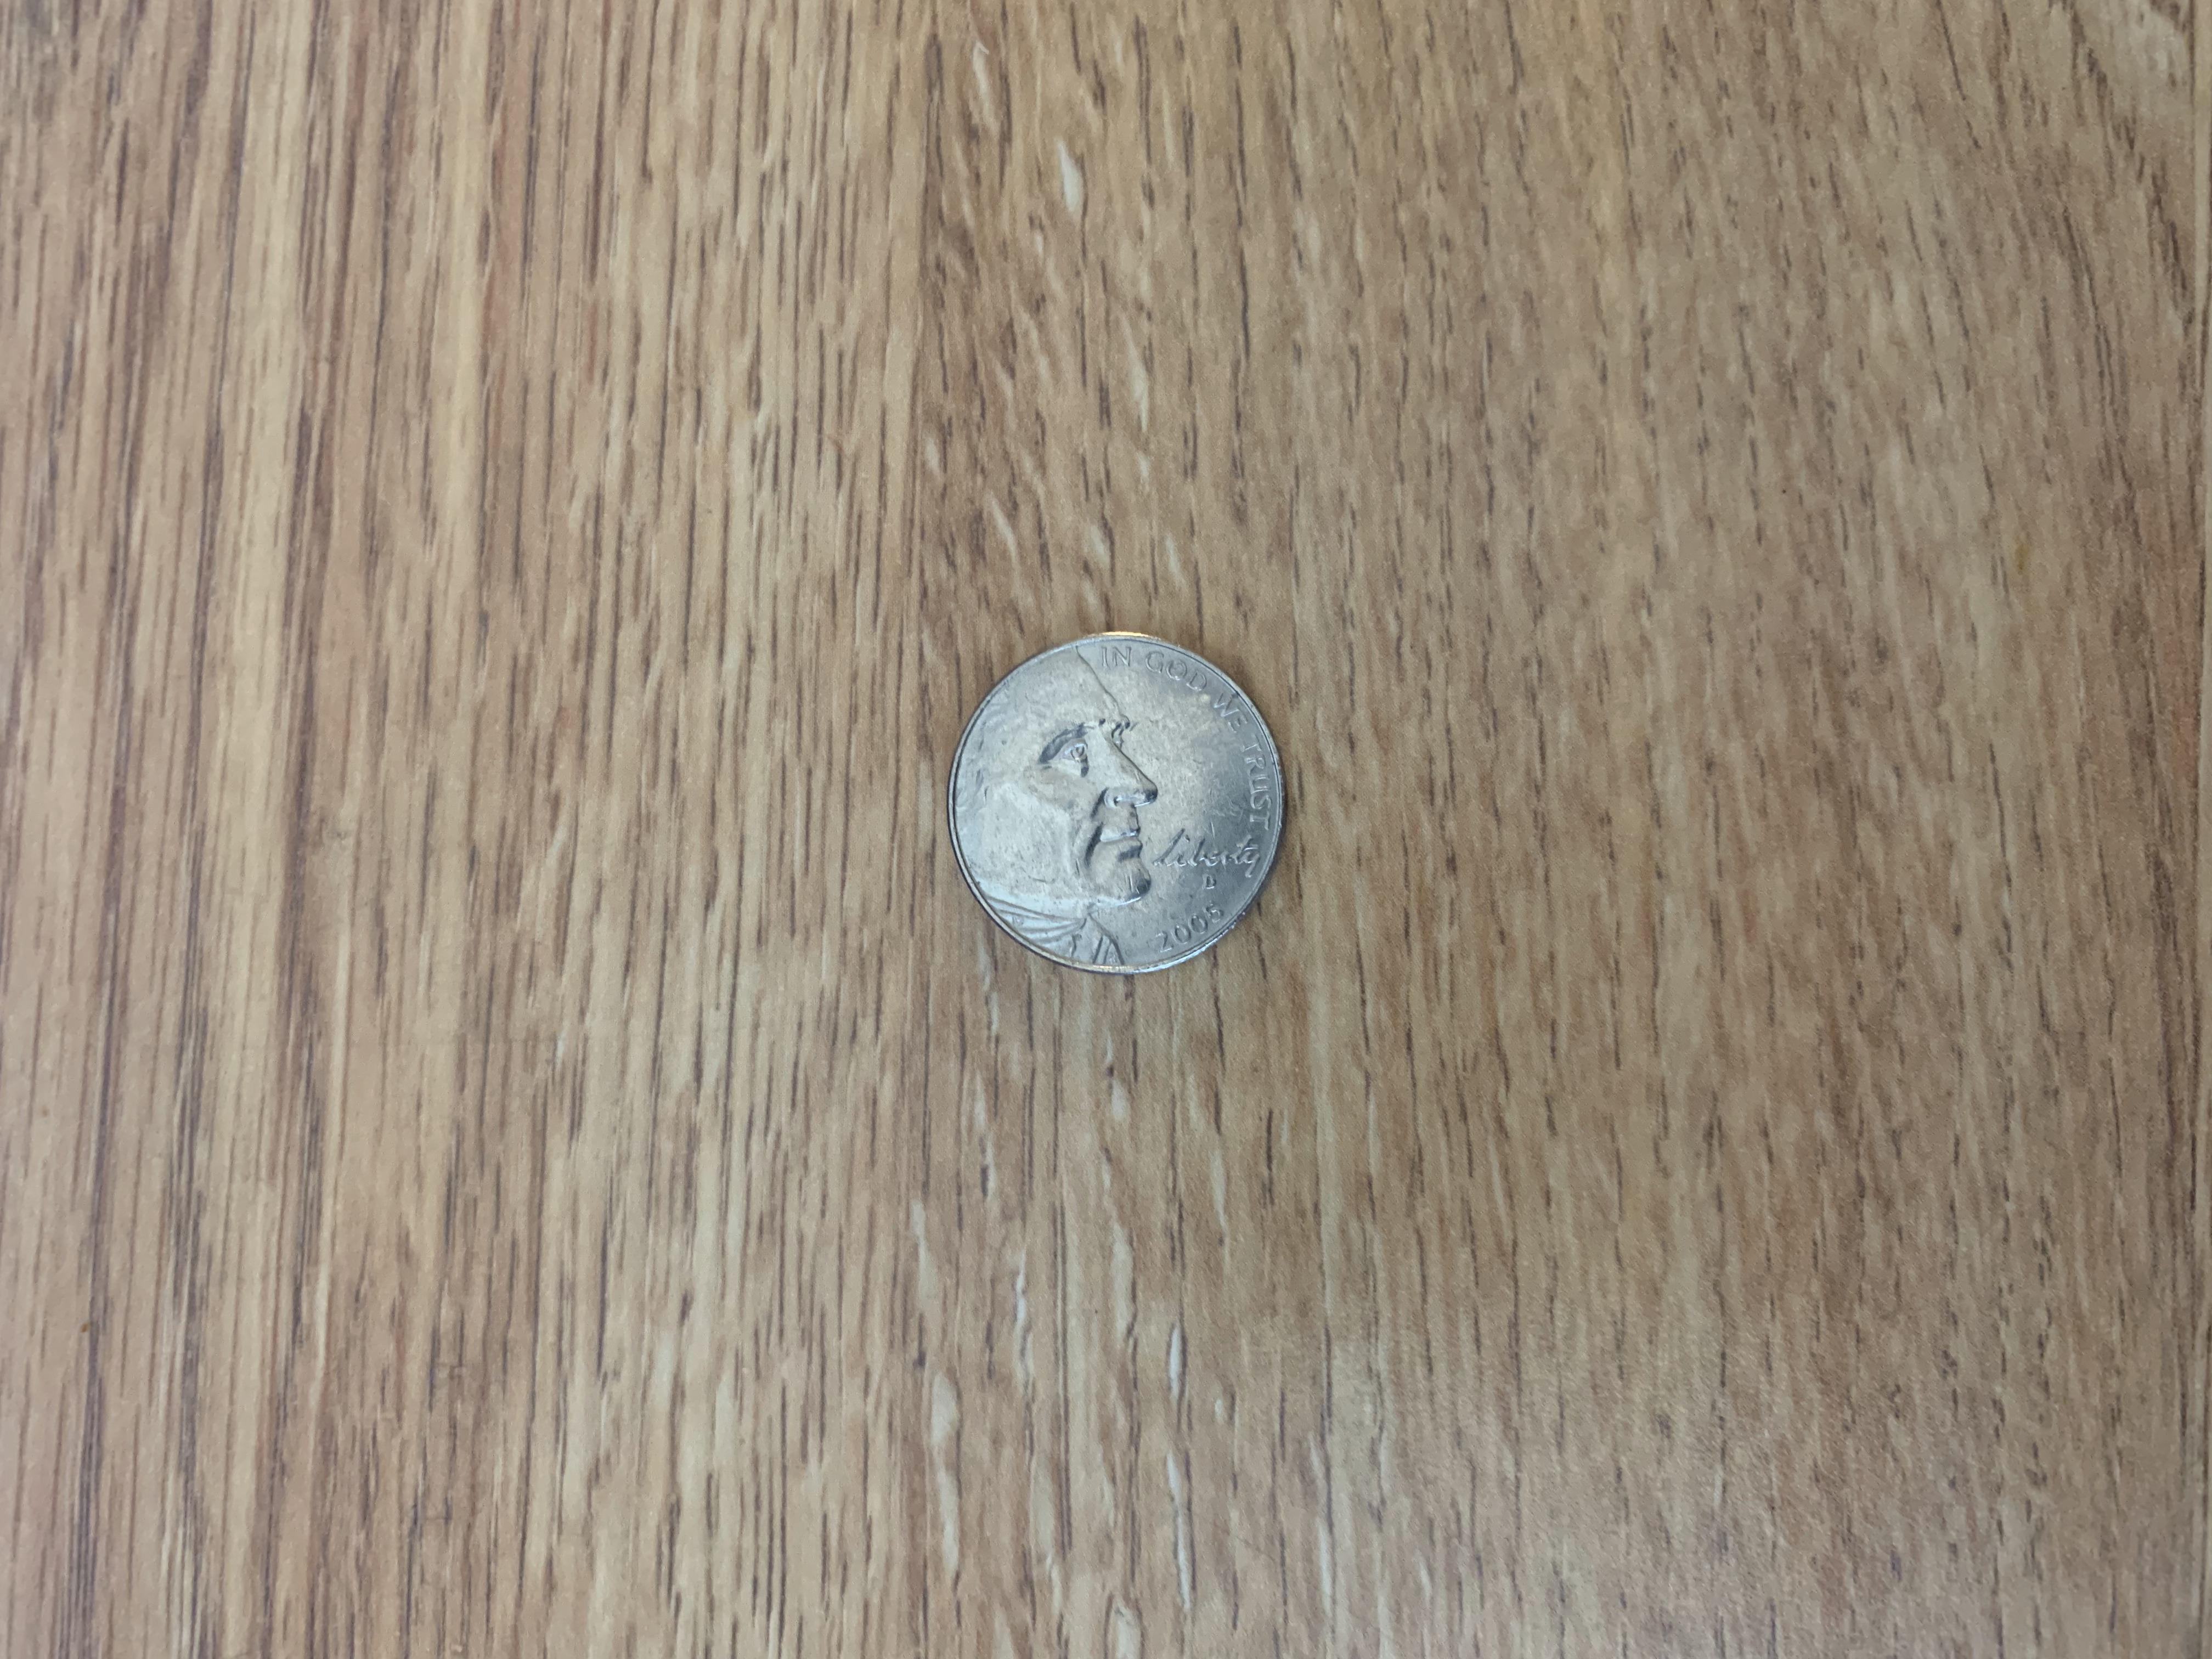Nickel: (942, 624, 1292, 988)
